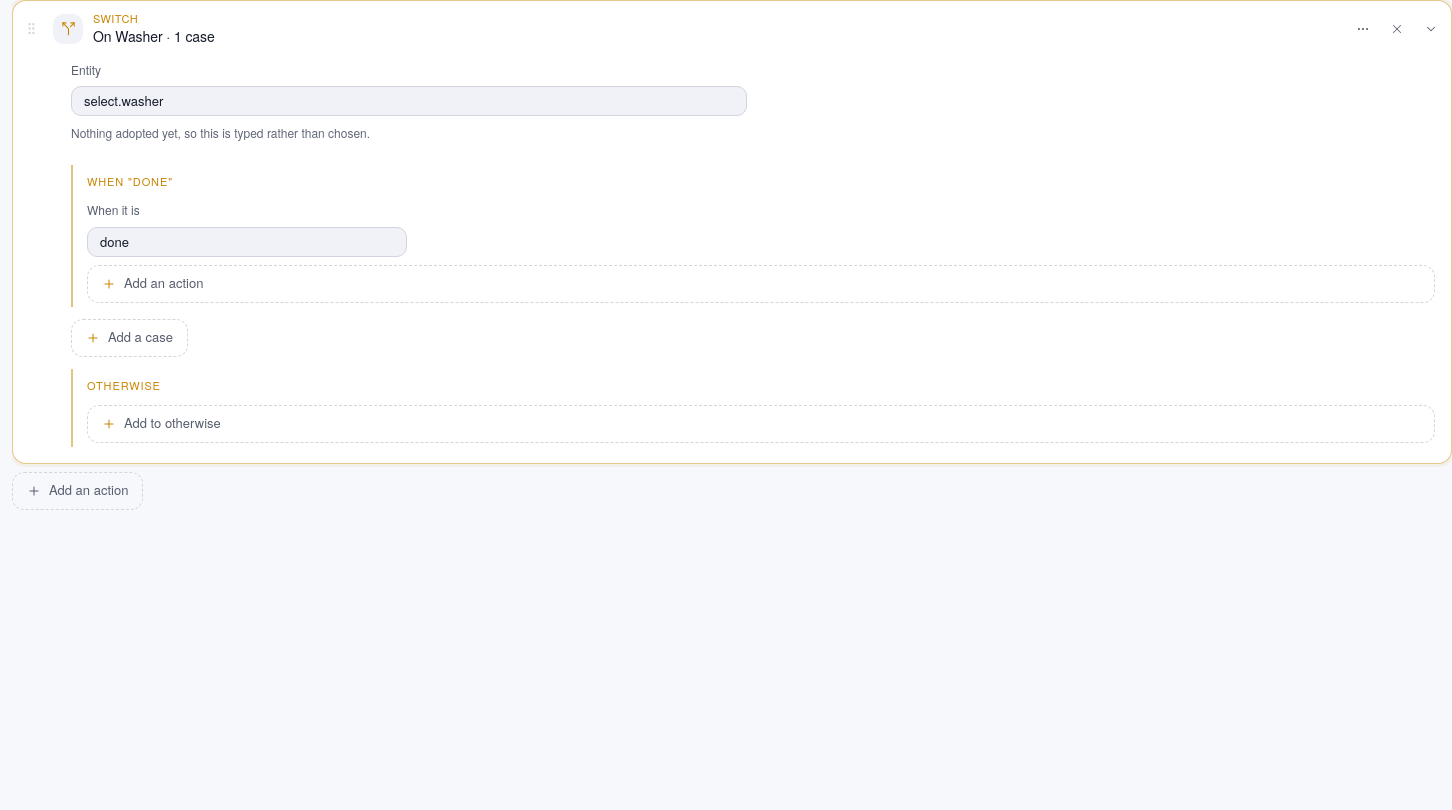
the blocks that hold others › adds a case to a switch, under Otherwise
Click the button "Add a case" at (129, 338), box [71, 319, 188, 357]
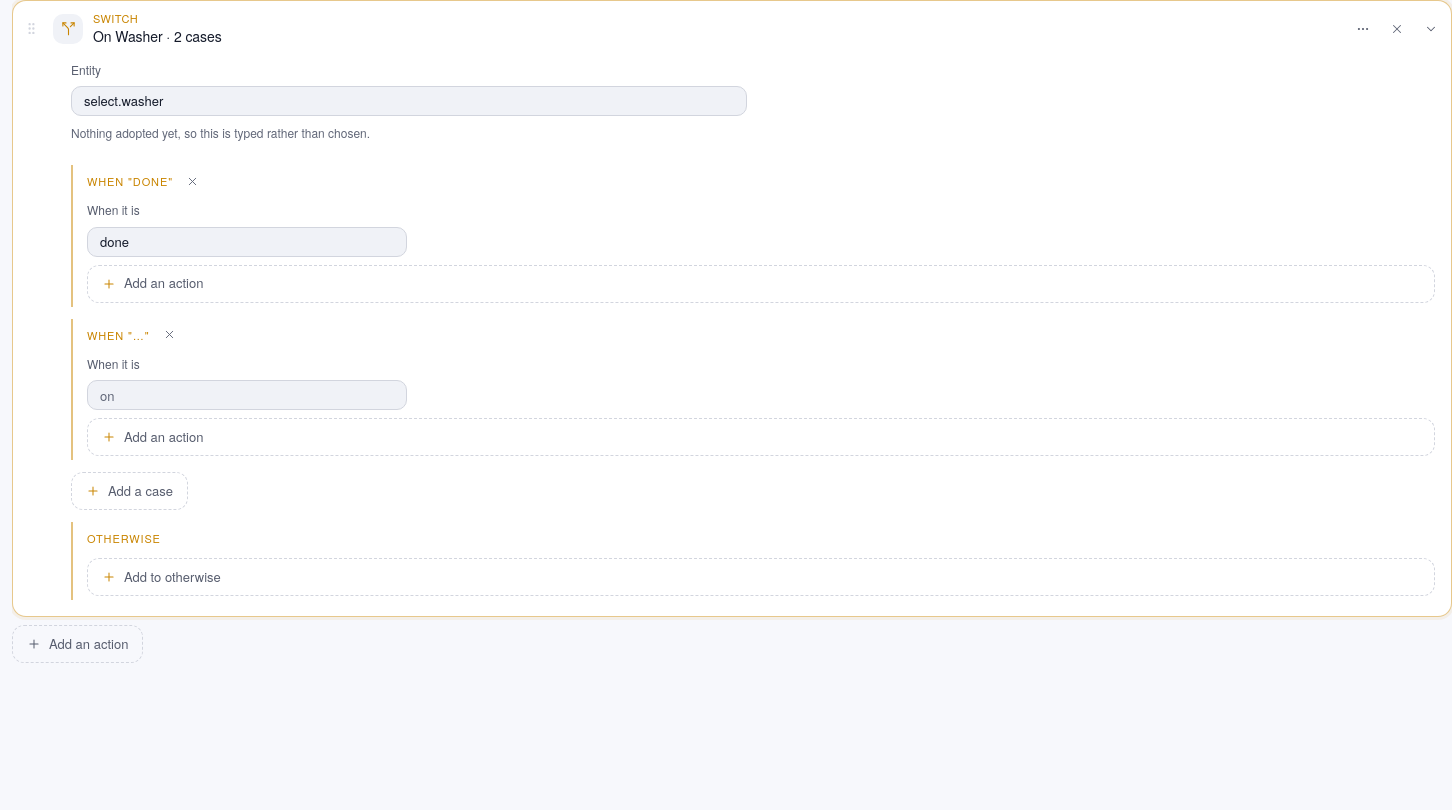
Expected: the text "Otherwise" is shown, [87, 531, 161, 545]
Result: the text "When \"done\"" is shown 2 times at [87, 174, 173, 188]; [87, 328, 150, 342]
